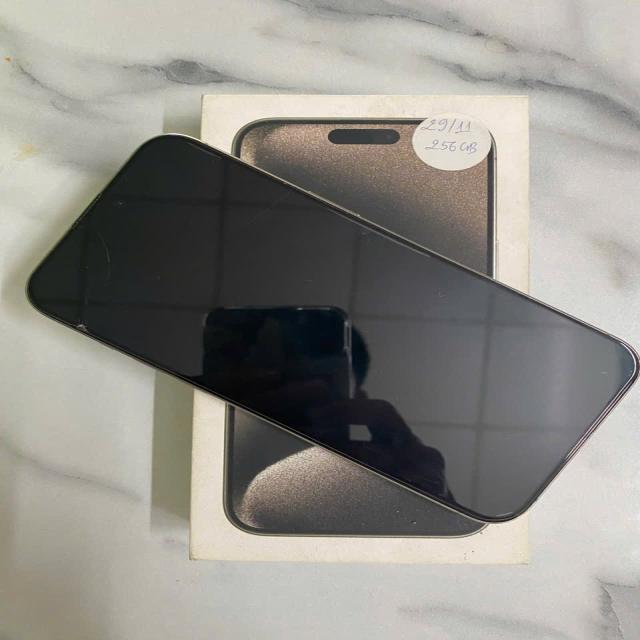physical_damage: (51, 212, 118, 337), (202, 181, 313, 239), (345, 213, 393, 252), (601, 359, 635, 384), (426, 280, 454, 302)
